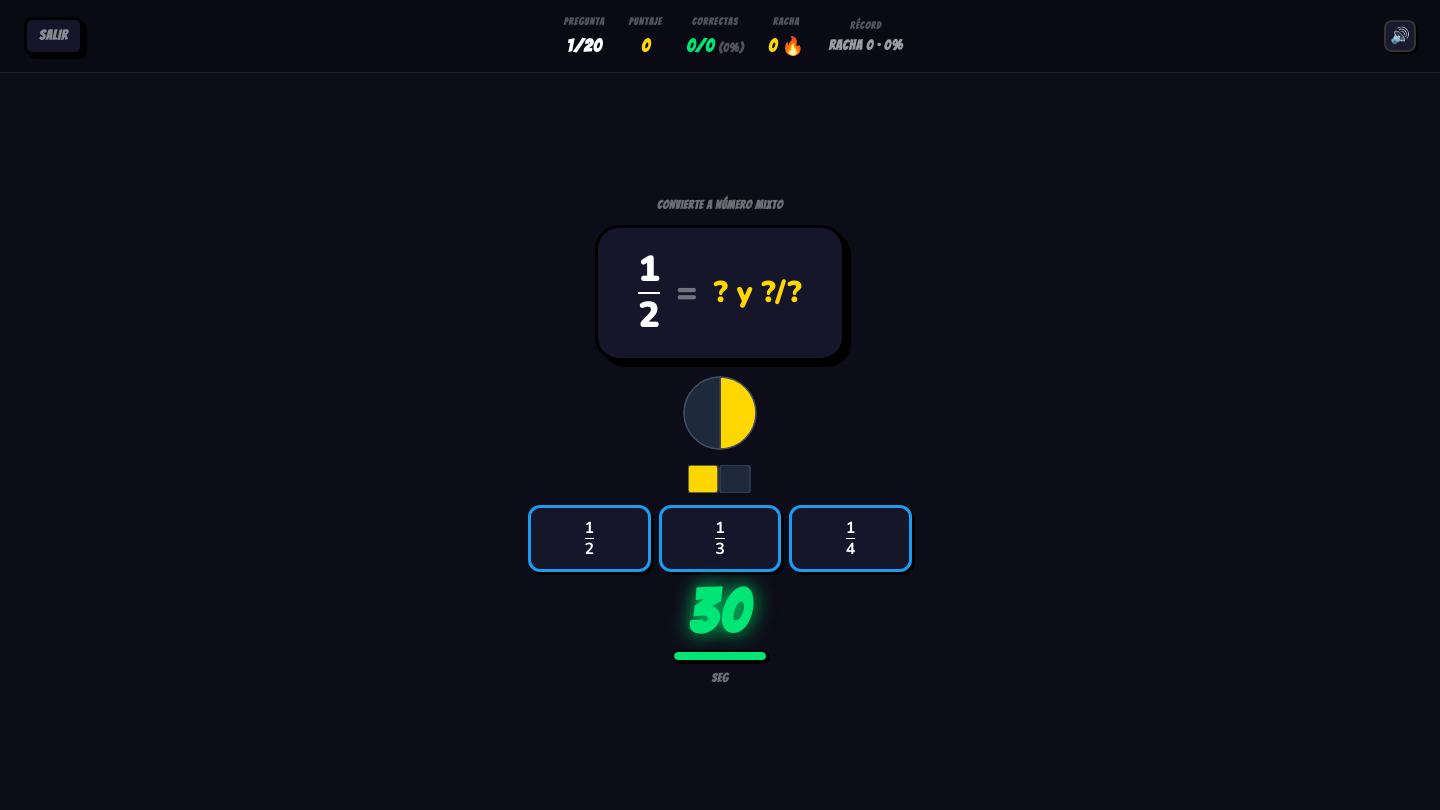
SoloGame › waits for "CONTINUAR" instead of auto-advancing after an answer
The width and height of the screenshot is (1440, 810).
Click the button "1 2": point(589, 538) [528, 505, 651, 572]
Wait 10000 ms
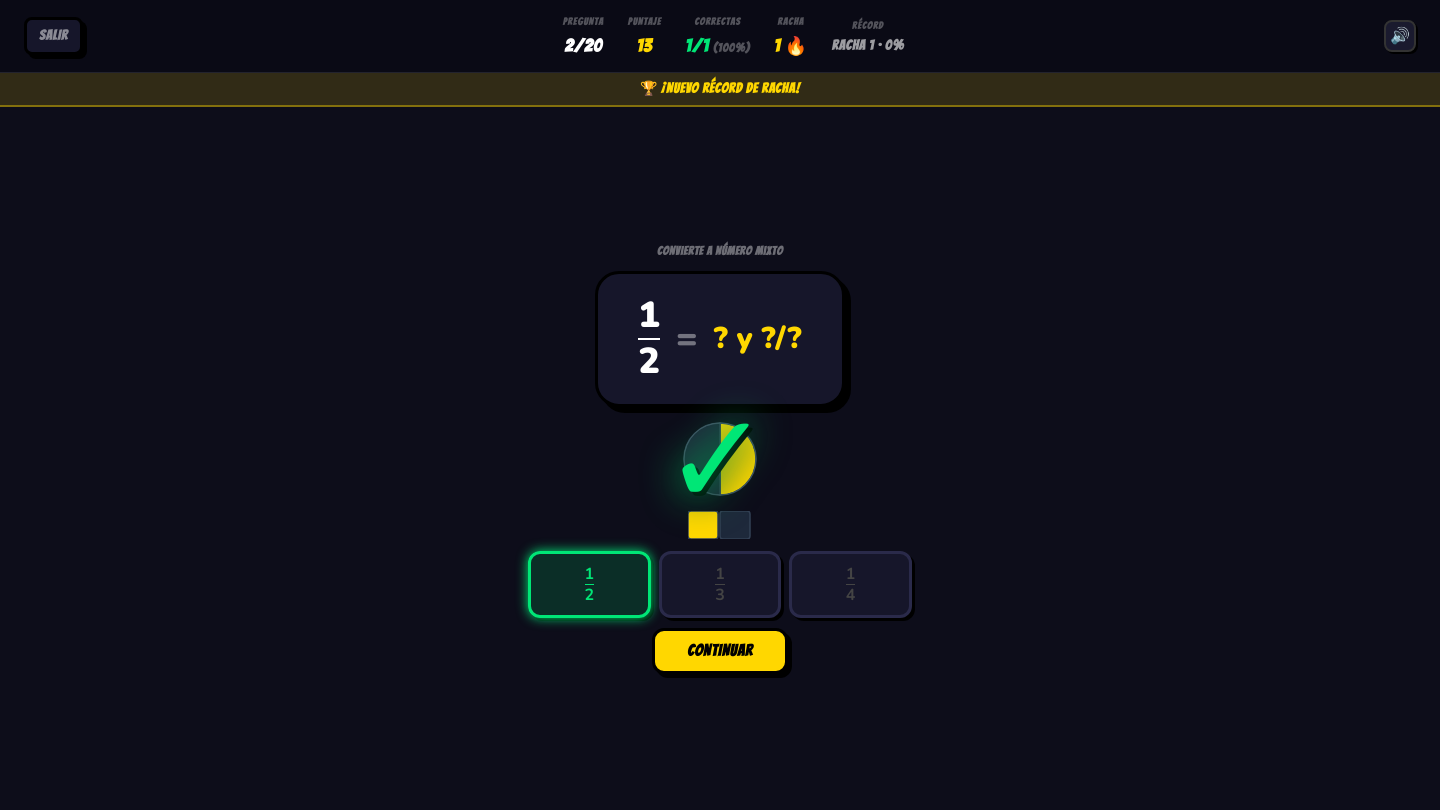
Check: the button "CONTINUAR" is shown
Check: the text "1/1" is shown, box [685, 32, 750, 60]
Click the button "CONTINUAR": point(720, 651) [652, 628, 788, 674]
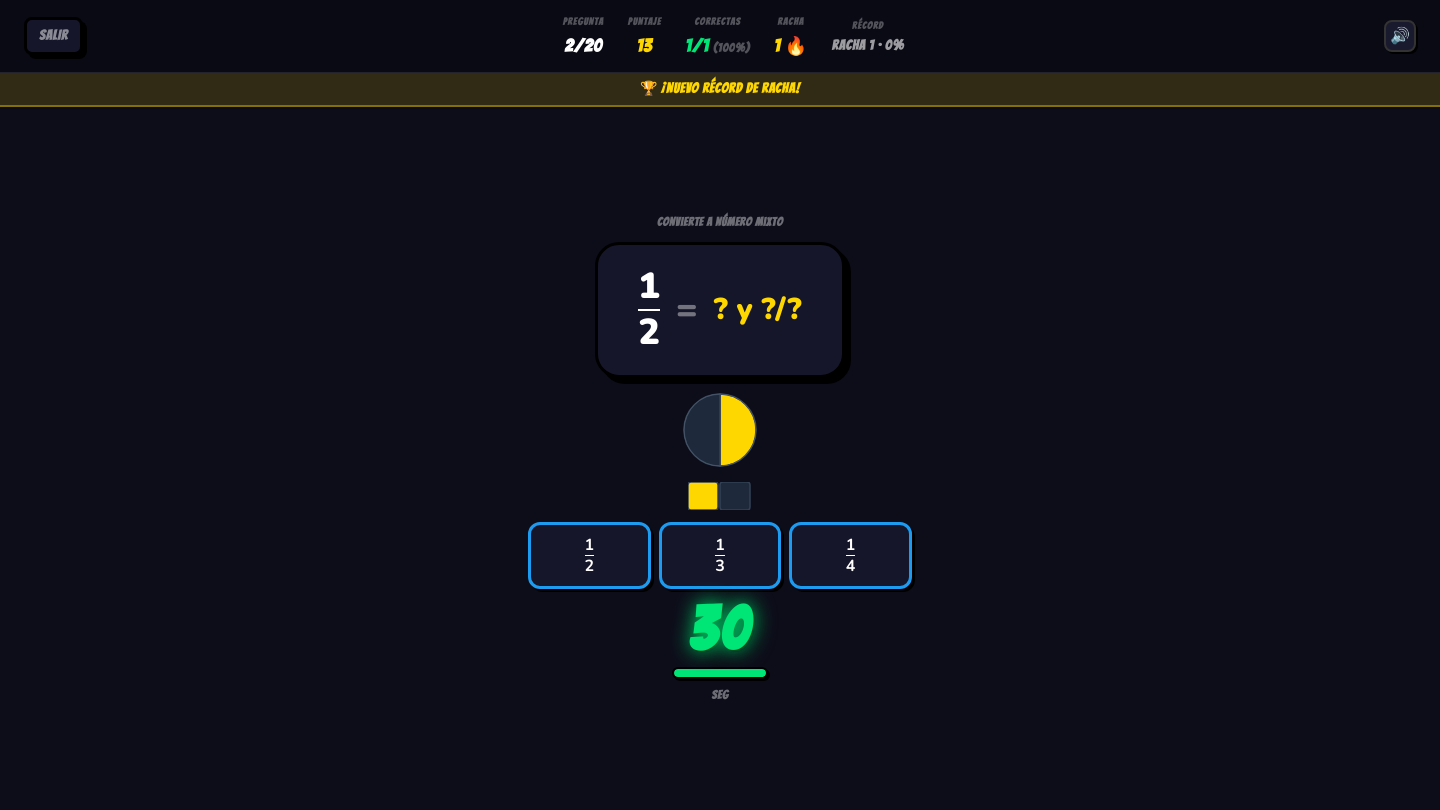
Check: the button "CONTINUAR" is gone
